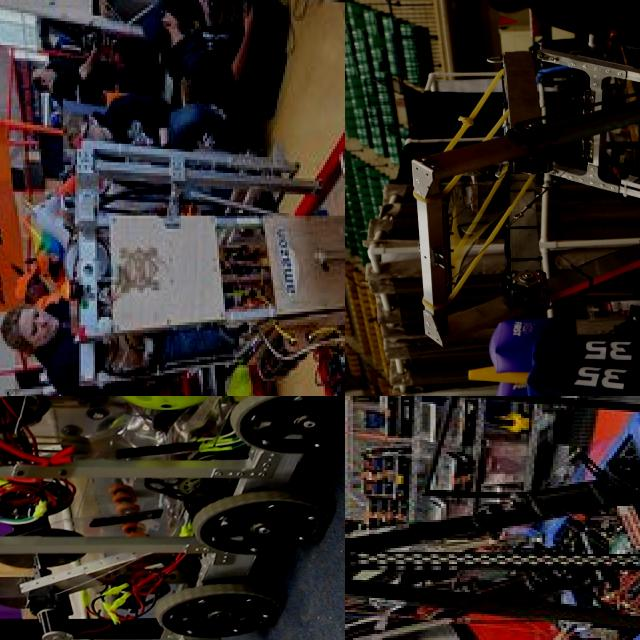FRC-Robots: (366, 48, 640, 382), (0, 396, 345, 640), (49, 115, 345, 396), (345, 396, 640, 640)
